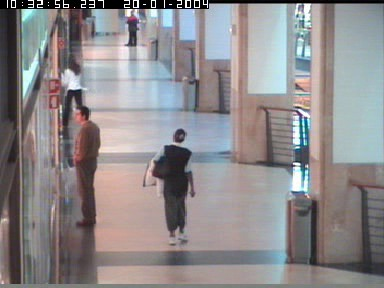person: (141, 128, 195, 246), (71, 105, 100, 227), (60, 55, 88, 127), (124, 11, 139, 46)
